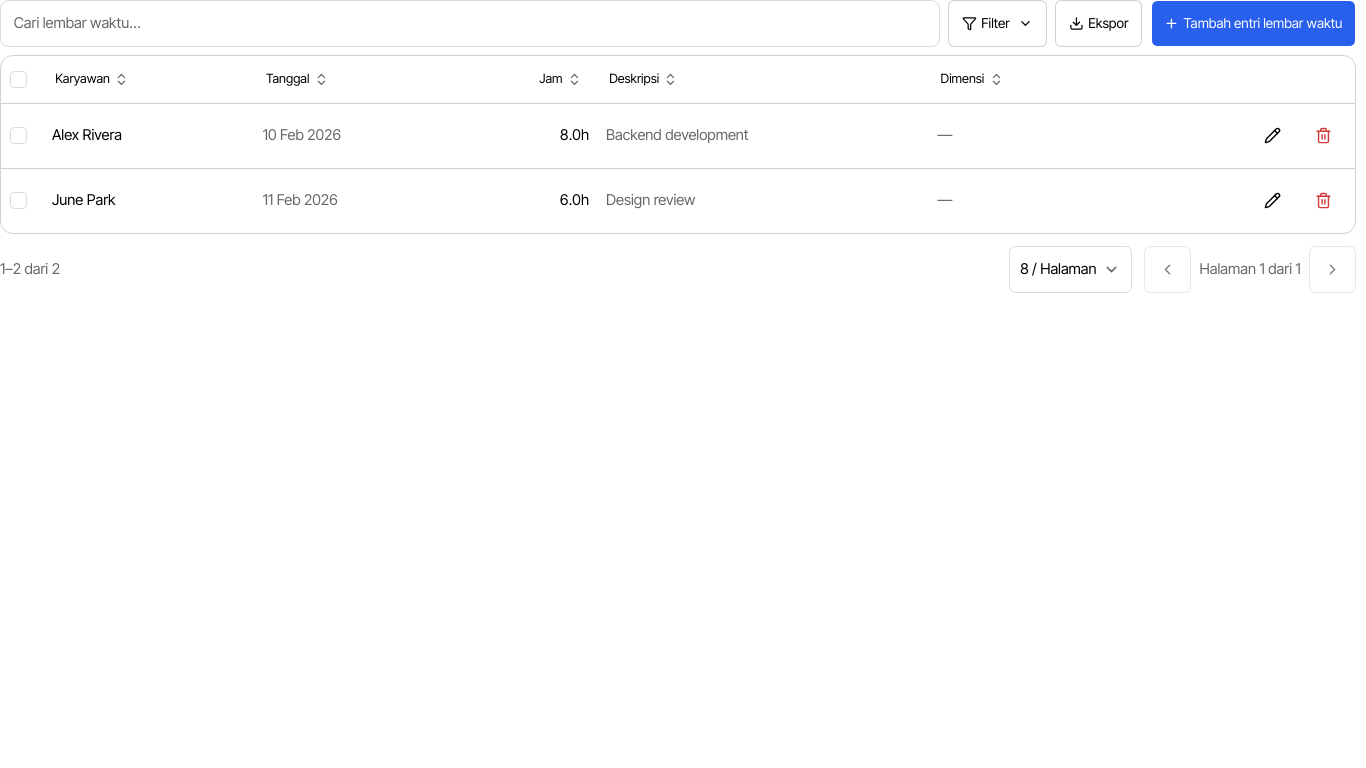
Test: TimesheetsSection › opens the create dialog from the add button
Expected: the text "Alex Rivera" is shown, [52,126,122,144]
Click the button "Tambah entri lembar waktu": (1253, 23) [1151,0,1356,47]
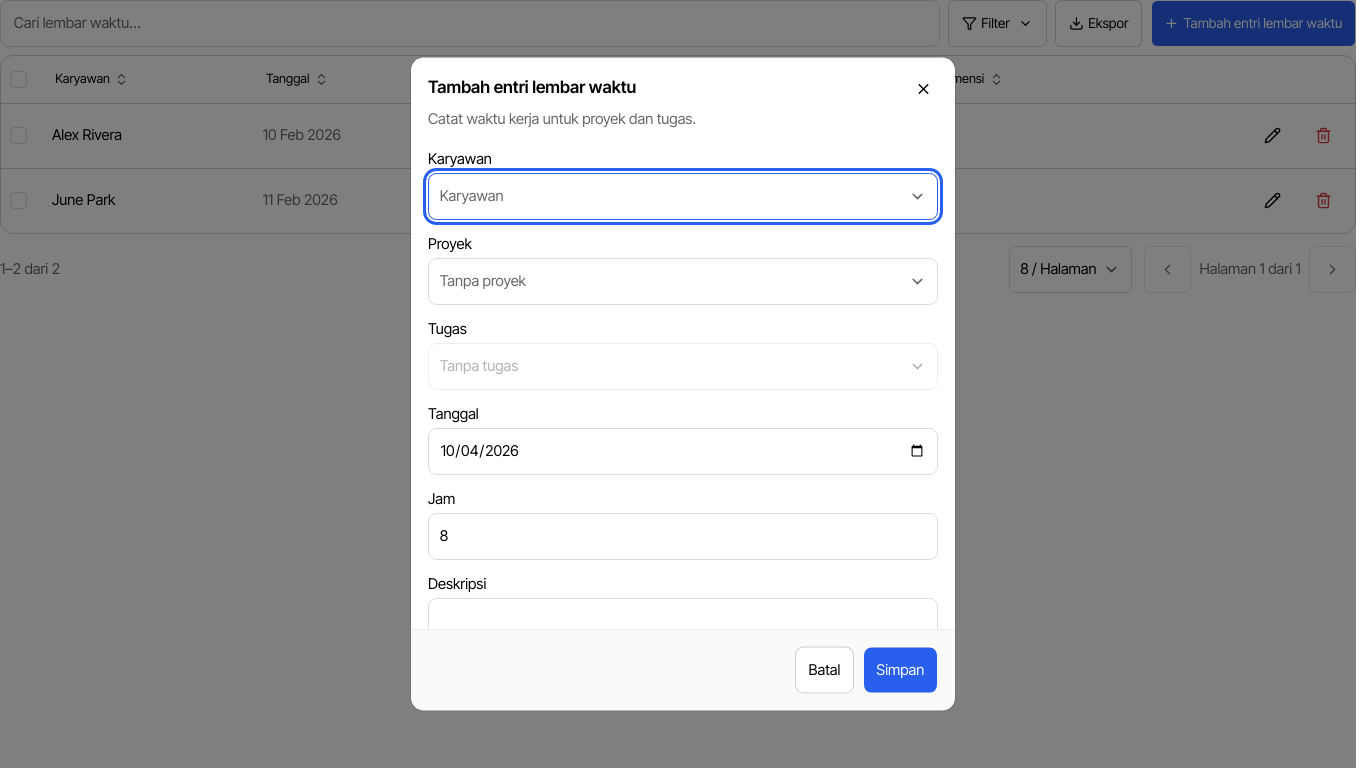
Expected: the dialog is shown, [411,58,955,710]
